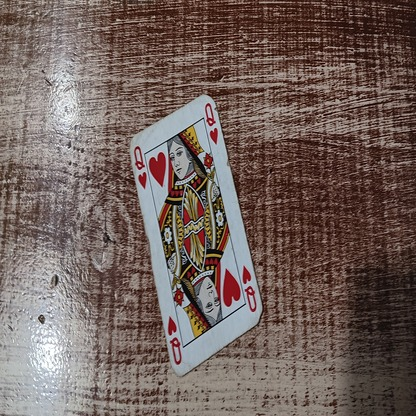Qh: (166, 315, 183, 364), (239, 263, 256, 311), (132, 145, 149, 189), (203, 99, 219, 144)
